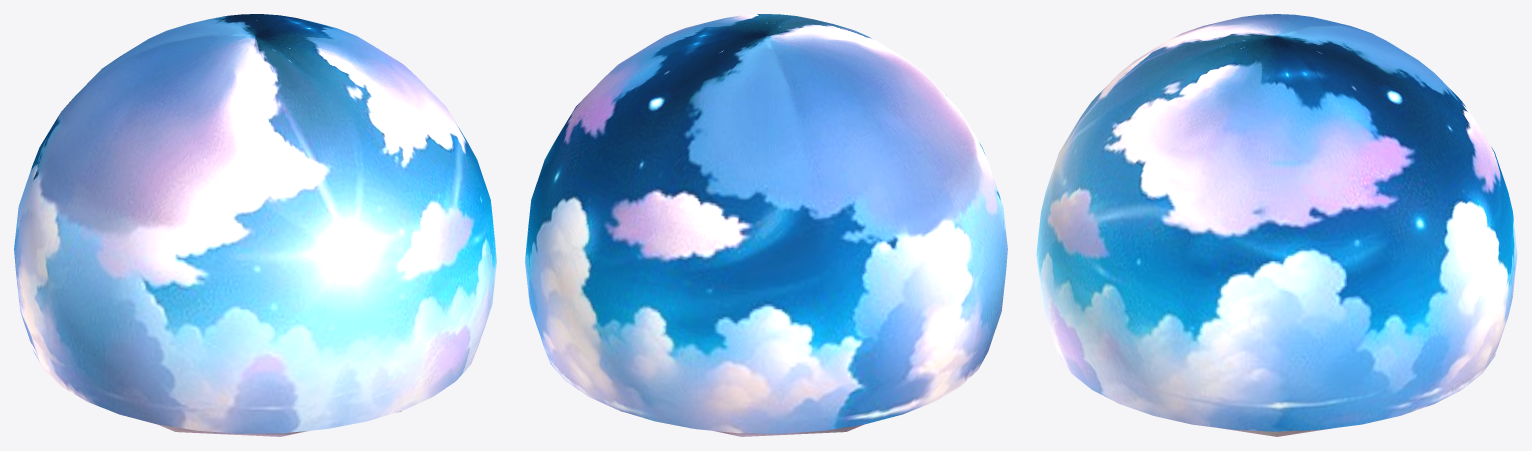
File: endZone.glb
3 views of the same model, side by side, from view 1: azimuth 30°, elevation 25°; view 2: azimuth 150°, elevation 25°; view 3: azimuth 270°, elevation 25° (orthographic).
Visible parts, largest first — view 1: secondSky; view 2: secondSky; view 3: secondSky.
Part boxes in pixels (box(x1,y1,x2,y2)): secondSky: box(14, 14, 496, 433); secondSky: box(525, 14, 1007, 433); secondSky: box(1036, 14, 1517, 431).
Size of what is drawn, in the model's own units: 31.66 by 25.62 by 31.66.
4 materials, 3 textured.
